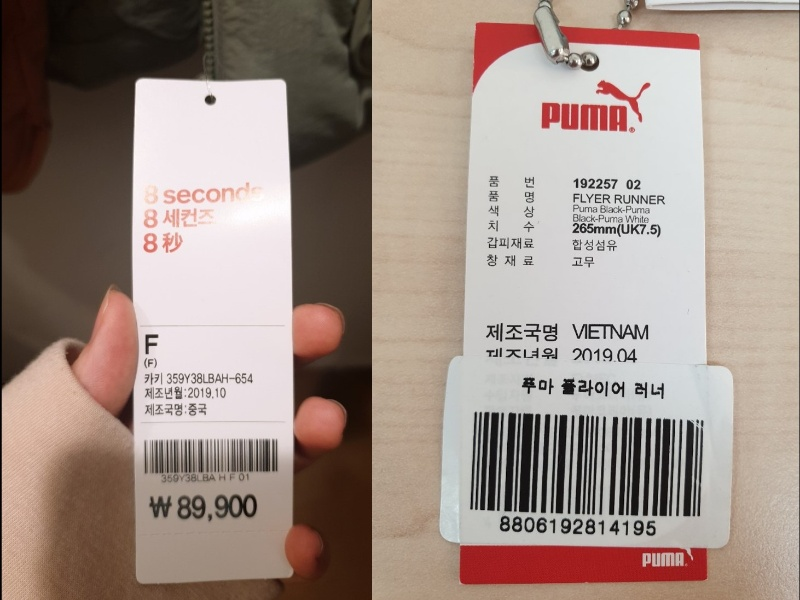tag: (459, 24, 709, 582), (134, 74, 293, 585)
text: (519, 376, 665, 401), (499, 516, 659, 538), (149, 494, 258, 522), (144, 182, 261, 206), (541, 103, 627, 135), (484, 322, 558, 346), (143, 206, 216, 229), (143, 371, 255, 385), (571, 204, 652, 223), (572, 322, 649, 341), (573, 222, 662, 237), (573, 193, 666, 206), (144, 386, 229, 400), (573, 347, 639, 365), (159, 471, 251, 483), (144, 402, 208, 419), (485, 348, 559, 362), (573, 176, 641, 191), (142, 231, 184, 254), (642, 550, 684, 569), (573, 236, 617, 253), (488, 190, 536, 205), (488, 219, 535, 233), (485, 254, 535, 267), (488, 204, 534, 218), (488, 235, 534, 249), (489, 175, 537, 188), (144, 333, 159, 357), (573, 256, 593, 270), (144, 356, 157, 368)
